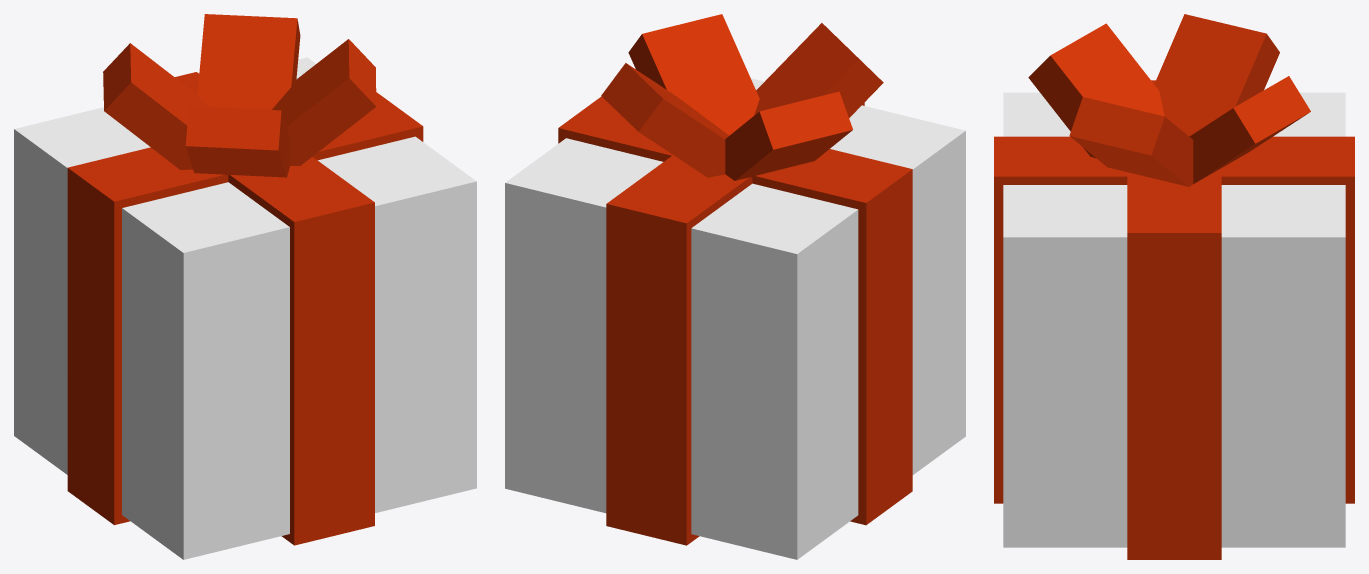
File: gift_icon.fbx
3 views of the same model, side by side, from view 1: azimuth 30°, elevation 25°; view 2: azimuth 150°, elevation 25°; view 3: azimuth 270°, elevation 25° (orthographic).
Parts seen in each view (by area): view 1: pCube27; view 2: pCube27; view 3: pCube27.
Boxes of the visible parts, box(x1,y1,x2,y2) form: pCube27: box(14, 14, 476, 559); pCube27: box(505, 14, 965, 559); pCube27: box(994, 14, 1354, 559).
Bounding box in the file's own units: 26.36 × 33.51 × 26.36.
1 material, 1 textured.
